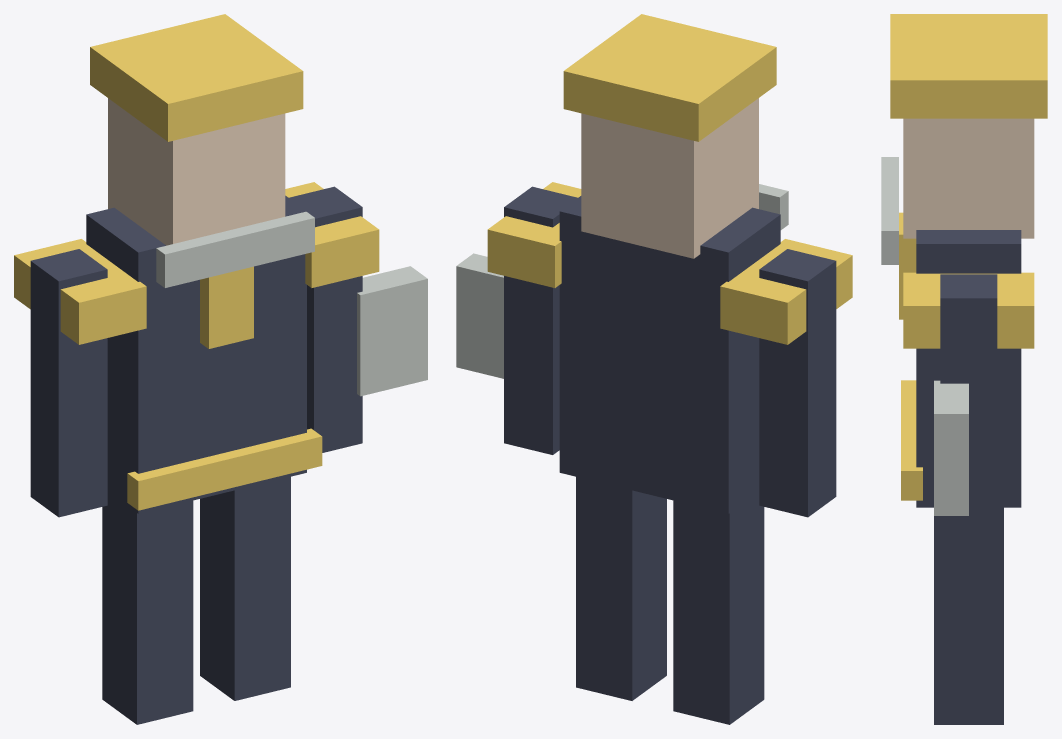
Rendered from 07_korra_signalborn_pilgrim_of_data.glb.
The picture shows the model from 3 angles, left to right: view 1: azimuth 30°, elevation 25°; view 2: azimuth 150°, elevation 25°; view 3: azimuth 270°, elevation 25°; orthographic projection.
Visible parts, largest first — view 1: Korra Signalborn, Pilgrim of Data; view 2: Korra Signalborn, Pilgrim of Data; view 3: Korra Signalborn, Pilgrim of Data.
Boxes of the visible parts, x1,y1,x2,y2 form: Korra Signalborn, Pilgrim of Data: (14, 14, 427, 724); Korra Signalborn, Pilgrim of Data: (456, 14, 852, 724); Korra Signalborn, Pilgrim of Data: (881, 14, 1047, 724).
Size of the model in its own units: 1.03 by 1.71 by 0.4033.
